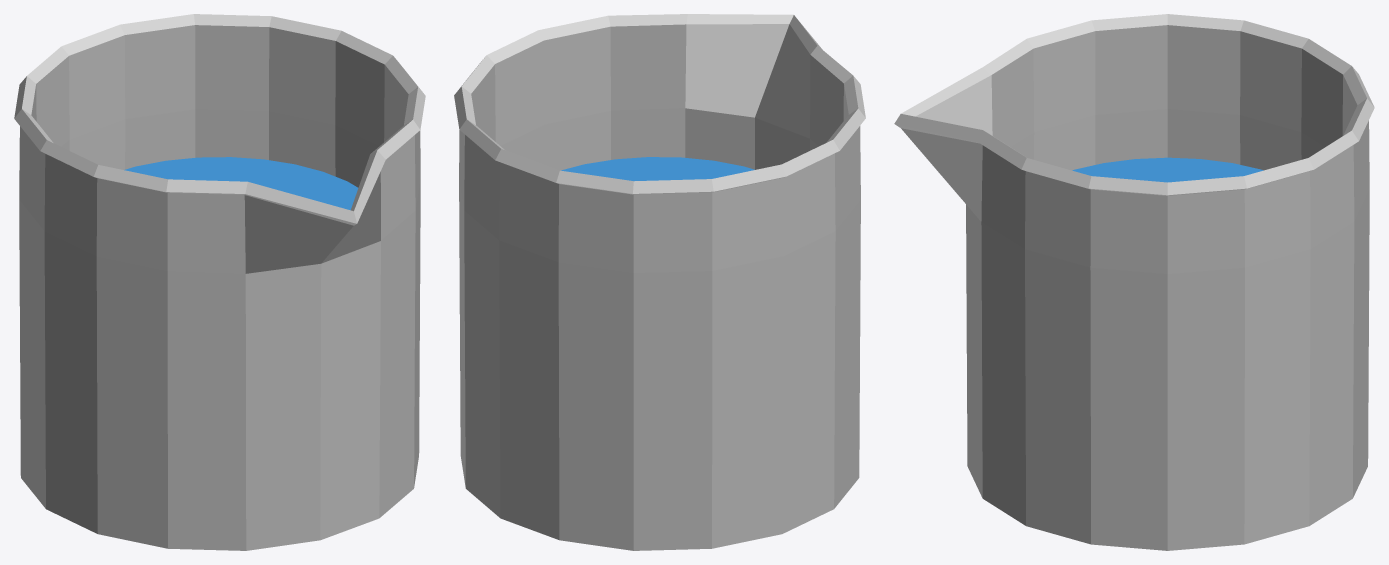
The model's file is water.fbx.
3 views of the same model, side by side, from view 1: azimuth 30°, elevation 25°; view 2: azimuth 150°, elevation 25°; view 3: azimuth 270°, elevation 25° (orthographic).
Parts seen in each view (by area): view 1: water; view 2: water; view 3: water.
Part boxes in pixels (left/top/right/bottom): water: left=14, top=14, right=425, bottom=550; water: left=454, top=14, right=865, bottom=550; water: left=894, top=14, right=1374, bottom=550.
Bounding box in the file's own units: 31.77 × 31.17 × 36.88.
